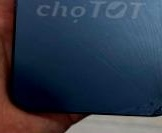physical_damage: (12, 0, 162, 133)
